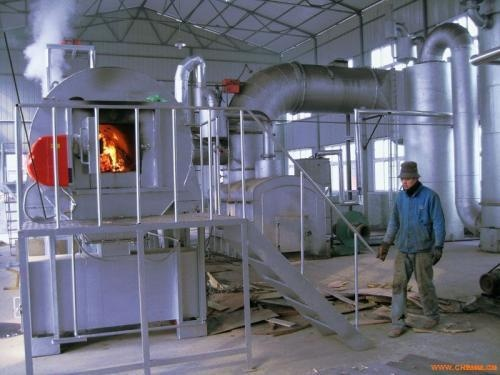fire: (98, 124, 128, 172)
